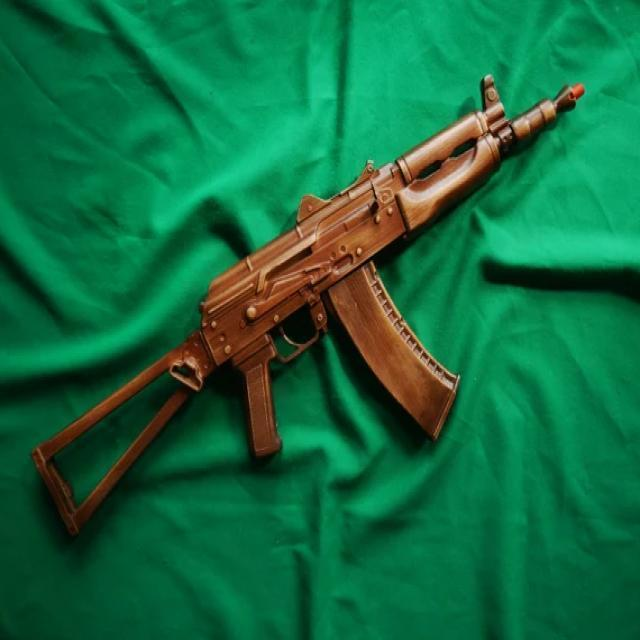Rifle: (31, 73, 587, 539)
